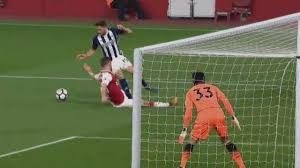falling: (80, 58, 181, 110)
